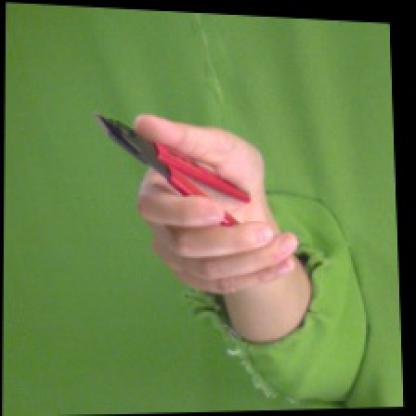Hand: (132, 112, 300, 294)
